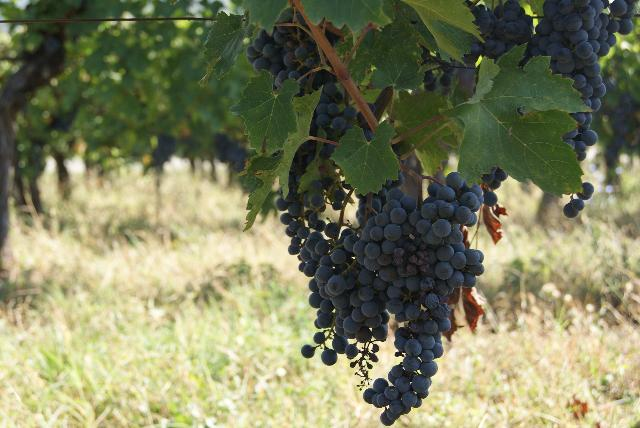grapes: (360, 172, 498, 420), (525, 0, 635, 161), (286, 211, 355, 365), (341, 256, 389, 385), (564, 182, 594, 218), (324, 282, 344, 318), (340, 235, 365, 262)
